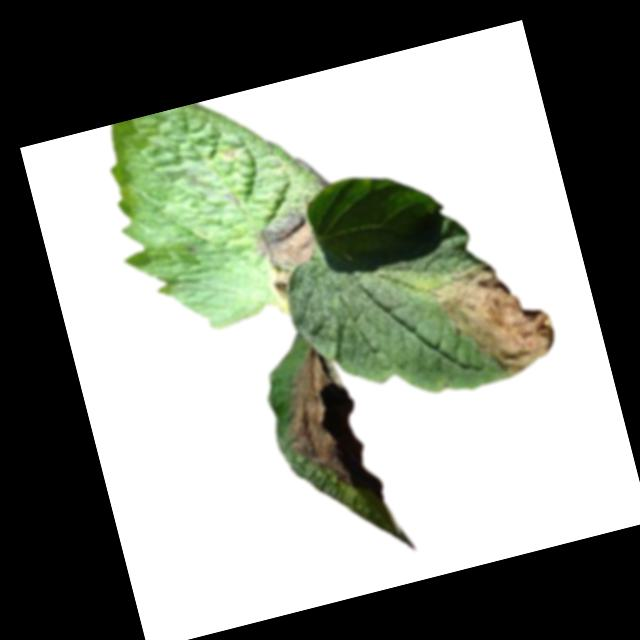Late_blight: (426, 250, 565, 393), (271, 344, 354, 496), (249, 207, 323, 277), (269, 270, 299, 303)
